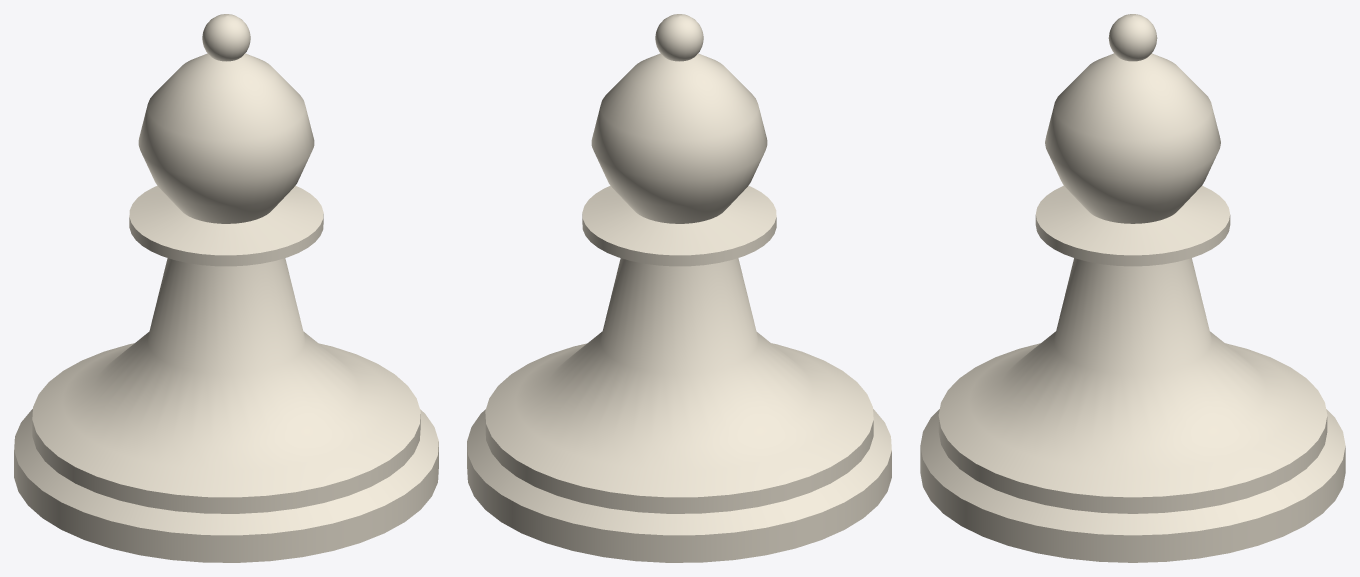
The model's file is WhiteBishop.glb.
3 renders of one model, left to right at view 1: azimuth 30°, elevation 25°; view 2: azimuth 150°, elevation 25°; view 3: azimuth 270°, elevation 25°, orthographic.
Parts seen in each view (by area): view 1: WhiteBishop; view 2: WhiteBishop; view 3: WhiteBishop.
Boxes of the visible parts, bbox=[...] form: WhiteBishop: bbox=[14, 14, 438, 562]; WhiteBishop: bbox=[467, 14, 891, 562]; WhiteBishop: bbox=[920, 14, 1345, 562].
Size of the model in its own units: 0.7 by 0.83 by 0.7.
